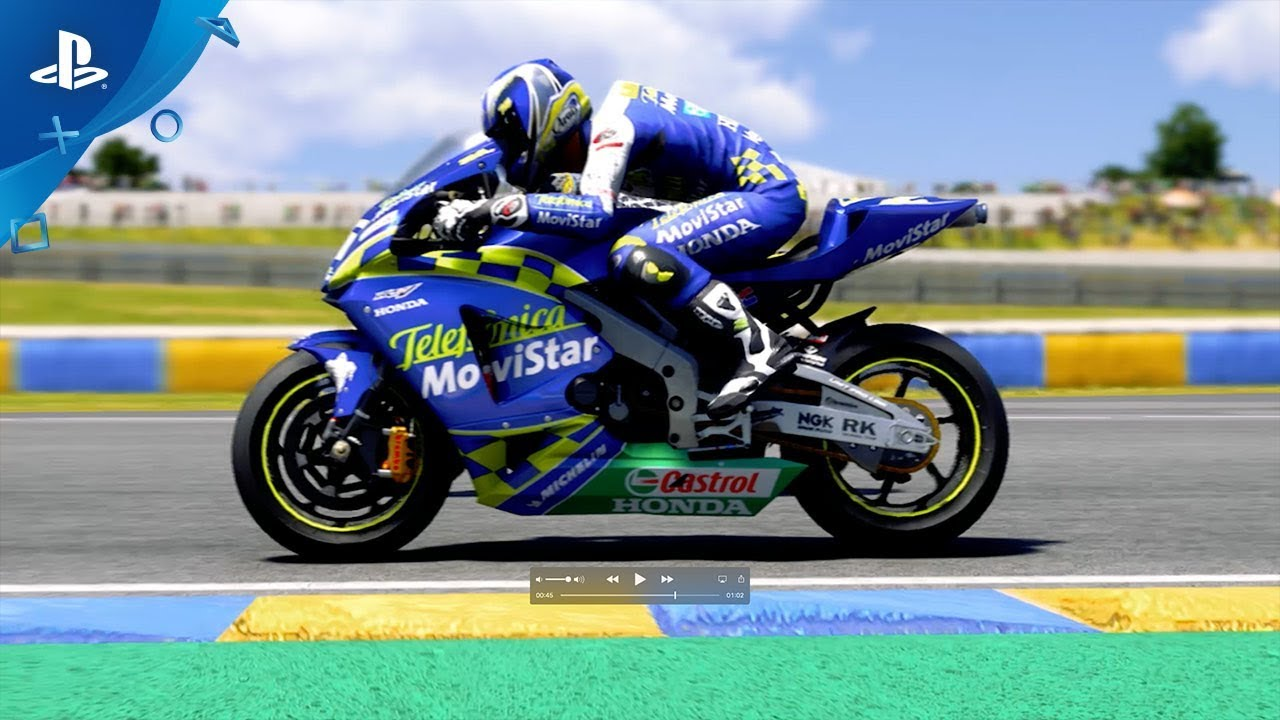helmet: (467, 44, 589, 133)
